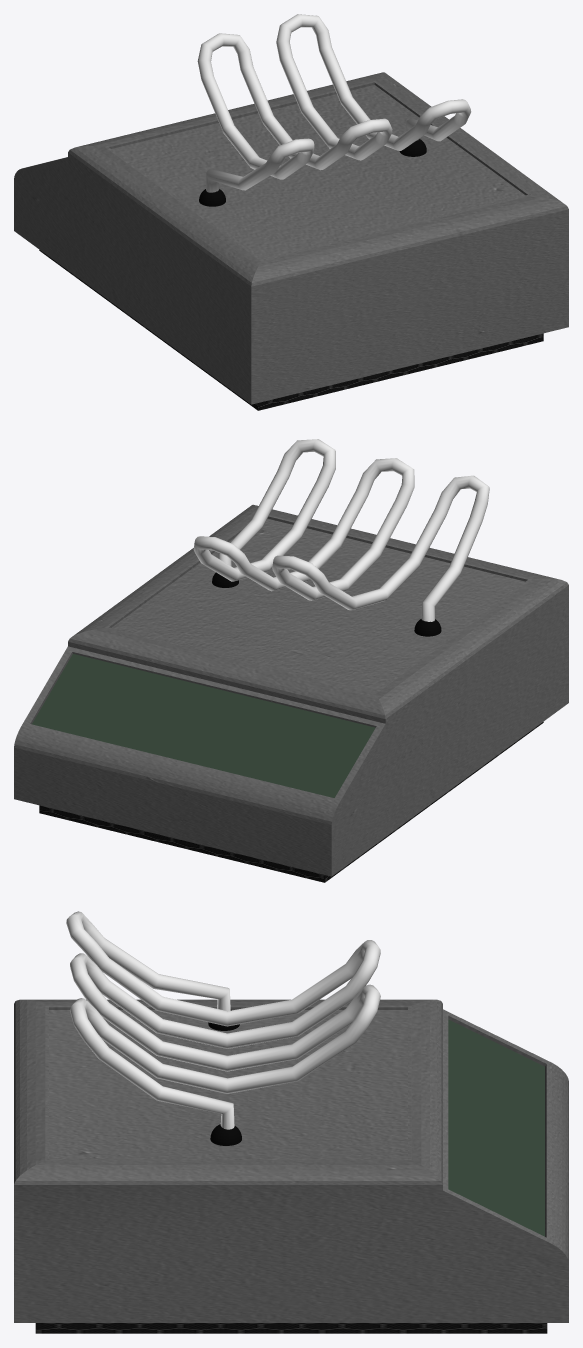
The model's file is torch.fbx.
3 renders of one model, top to bottom at view 1: azimuth 30°, elevation 25°; view 2: azimuth 150°, elevation 25°; view 3: azimuth 270°, elevation 25°, orthographic. The views are drawn at different scales.
Parts seen in each view (by area): view 1: Torch_body, Spiral.003; view 2: Torch_body, Spiral.003; view 3: Torch_body, Spiral.003, Sphere.001.
Part boxes in pixels (box(x1,y1,x2,y2)): Torch_body: box(14, 72, 568, 410); Spiral.003: box(197, 14, 471, 192); Torch_body: box(14, 504, 568, 882); Spiral.003: box(193, 439, 489, 621); Torch_body: box(14, 999, 568, 1333); Spiral.003: box(66, 911, 380, 1129); Sphere.001: box(210, 1124, 241, 1145).
Size of the model in its own units: 270 by 200 by 350.
